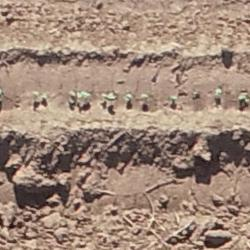cotton: (107, 93, 115, 99), (216, 88, 222, 96), (240, 95, 248, 101), (83, 91, 91, 97), (125, 94, 132, 100), (42, 92, 47, 100), (142, 93, 148, 98), (32, 91, 37, 97), (171, 97, 176, 101)
